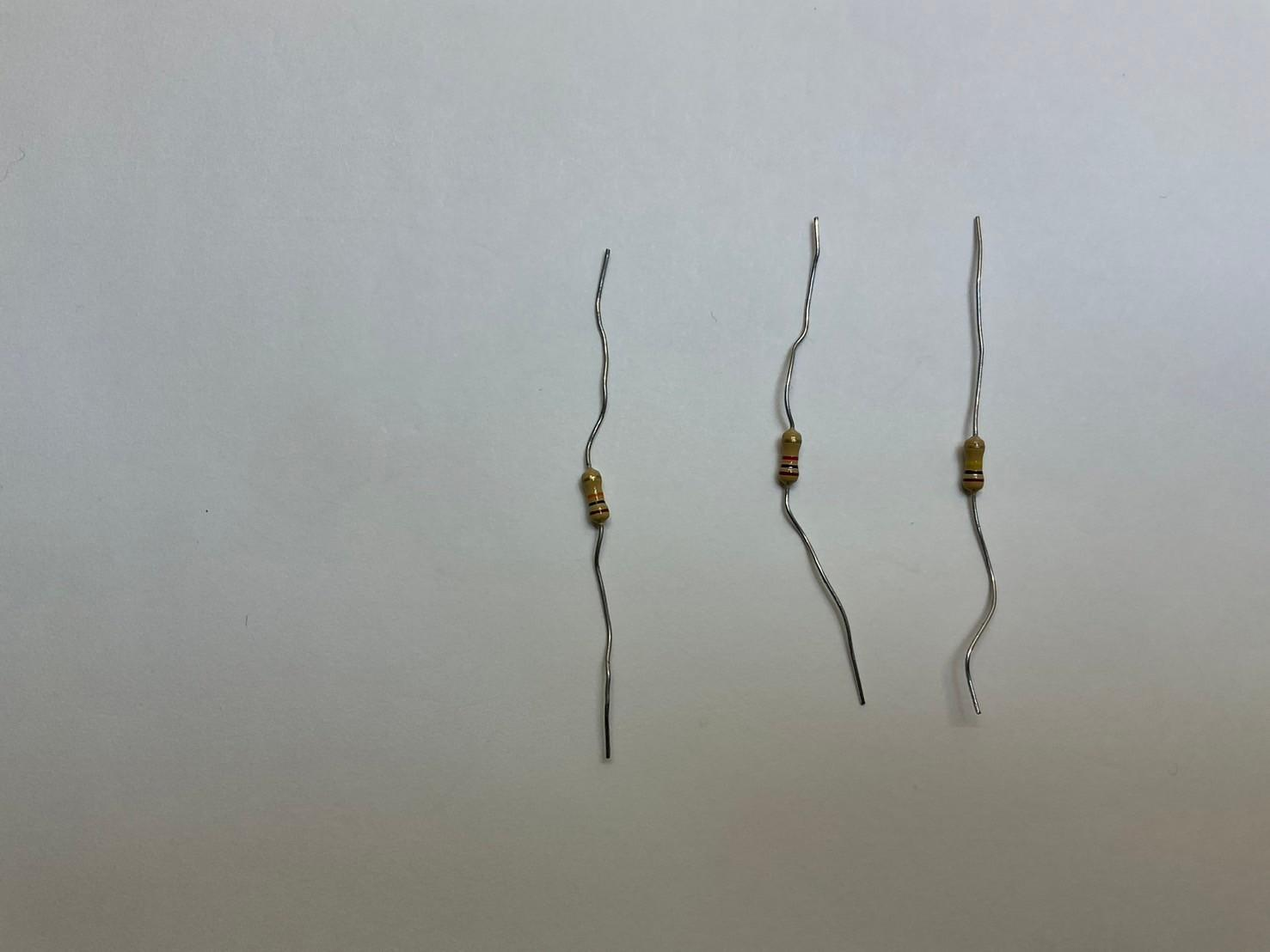resistor: (579, 465, 610, 525), (775, 430, 805, 486), (961, 435, 986, 495)
